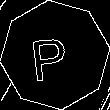P_N: (34, 28, 76, 82)
